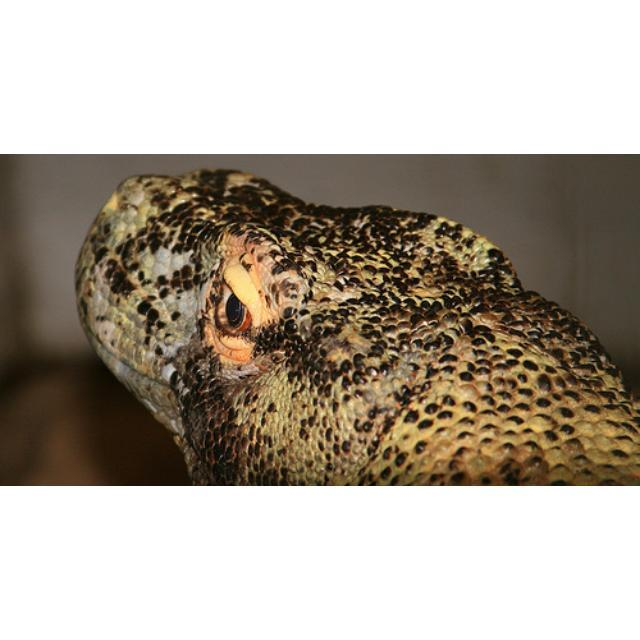KomodoDragon: (73, 164, 638, 485)
